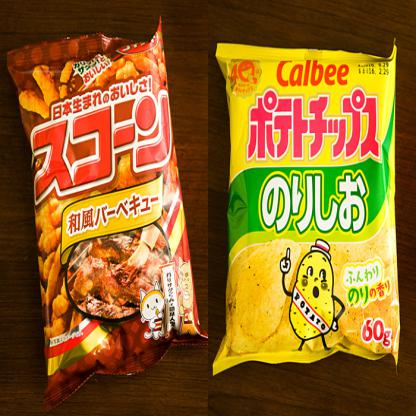potatochip: (205, 36, 407, 378)
